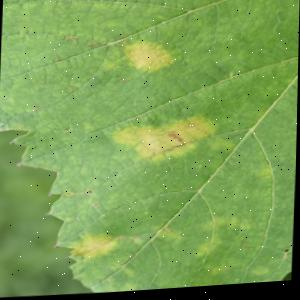Folha: (0, 0, 300, 300)
Fungo: (108, 113, 219, 166), (122, 39, 175, 75), (67, 231, 120, 263), (195, 235, 224, 258), (203, 218, 233, 233), (156, 230, 184, 245), (166, 131, 186, 146), (252, 267, 272, 280), (235, 220, 254, 233), (64, 34, 78, 45), (33, 104, 39, 109)
